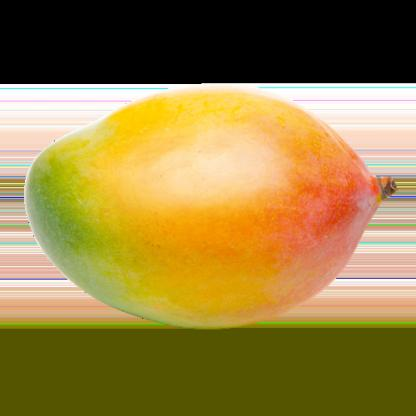--: (14, 72, 416, 338)
